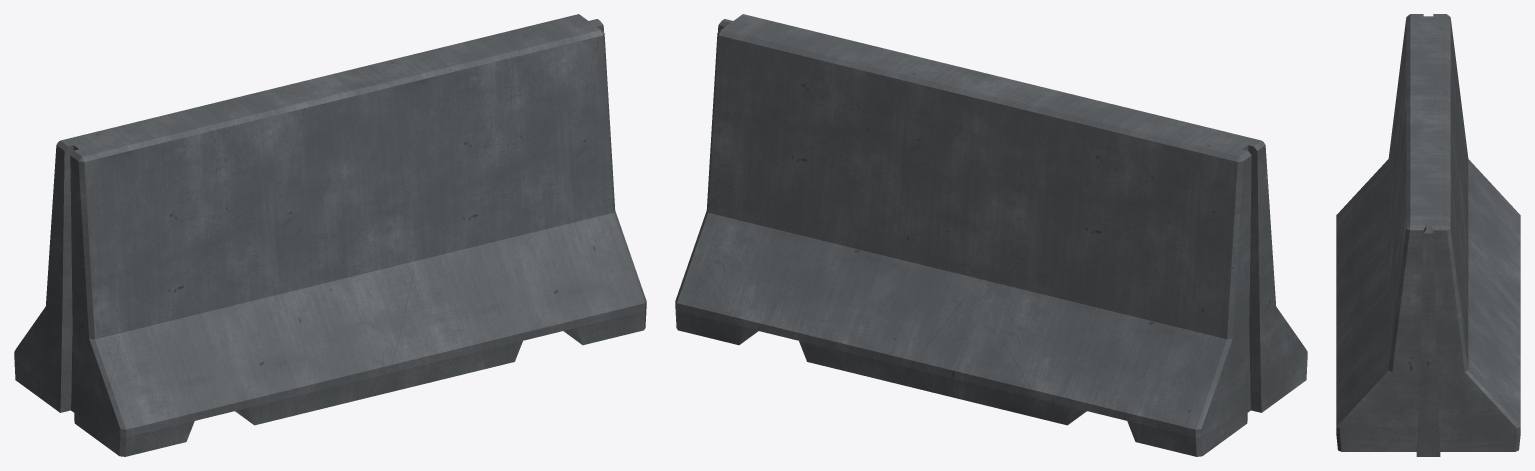
Rendered from concrete_barricade.glb.
3 views of the same model, side by side, from view 1: azimuth 30°, elevation 25°; view 2: azimuth 150°, elevation 25°; view 3: azimuth 270°, elevation 25° (orthographic). The views are drawn at different scales.
Visible parts, largest first — view 1: Concrete barricade - Worn; view 2: Concrete barricade - Worn; view 3: Concrete barricade - Worn.
Boxes of the visible parts, x1,y1,x2,y2 form: Concrete barricade - Worn: [14, 14, 646, 456]; Concrete barricade - Worn: [675, 14, 1307, 456]; Concrete barricade - Worn: [1336, 14, 1520, 456].
Size of the model in its own units: 2.17 by 1.03 by 0.7696.
Materials: 1 (1 with a texture image).
